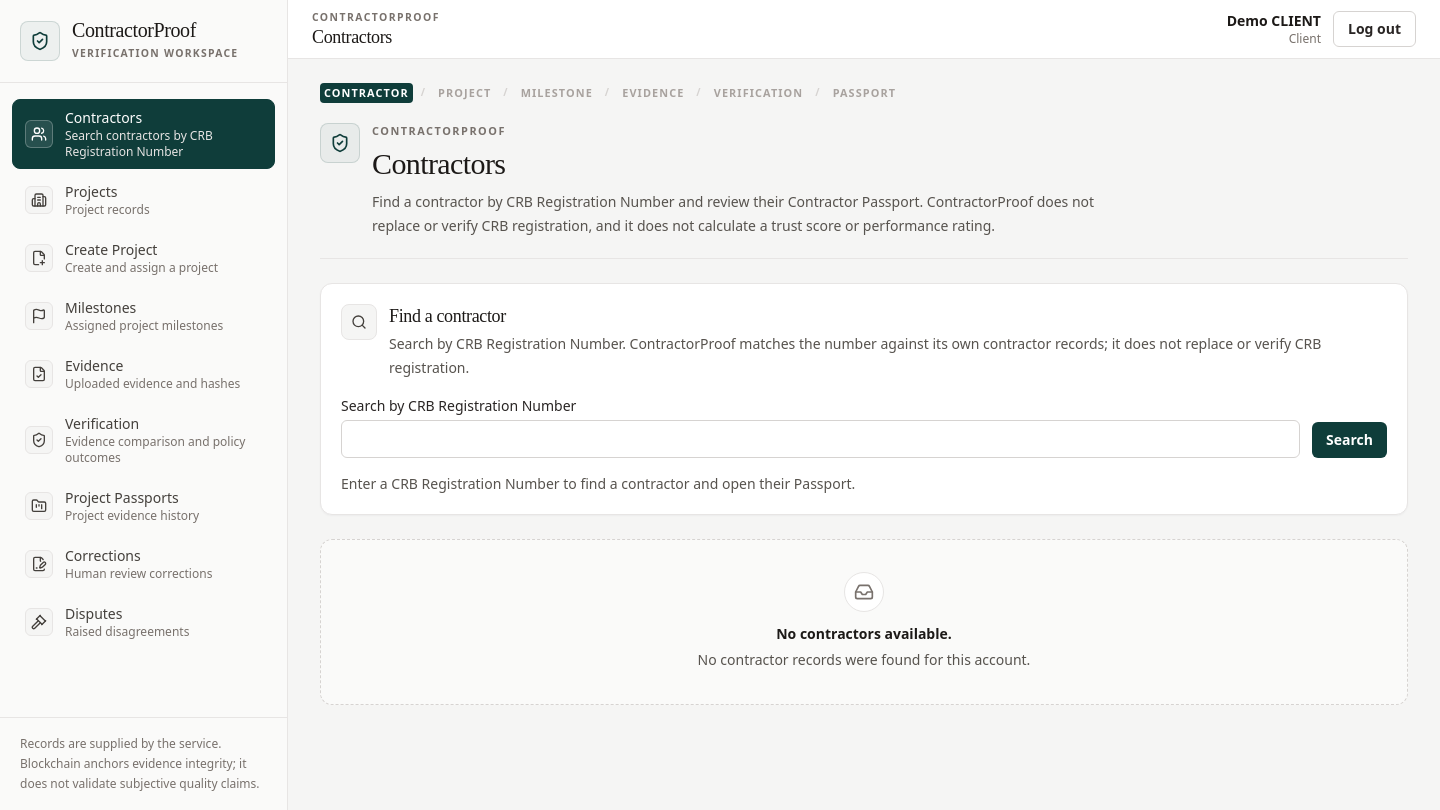
Test: CRB contractor discovery › shows a loading state while the search runs
Type "CRB-204" into the field labelled "Search by CRB Registration Number" at [821, 440], box 341,420 -> 1300,458
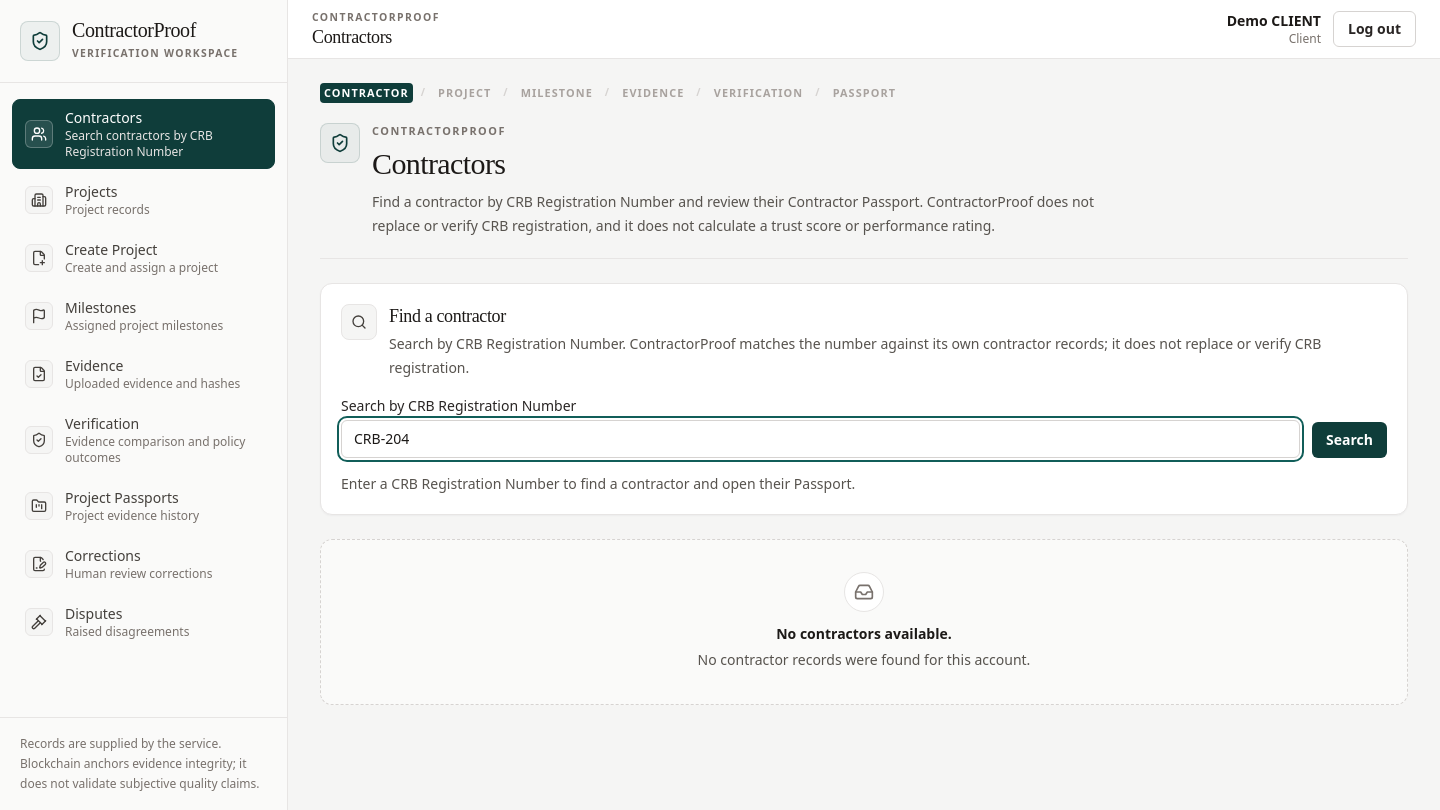
Click the button "Search" at [1350, 440], box 1312,422 -> 1387,458
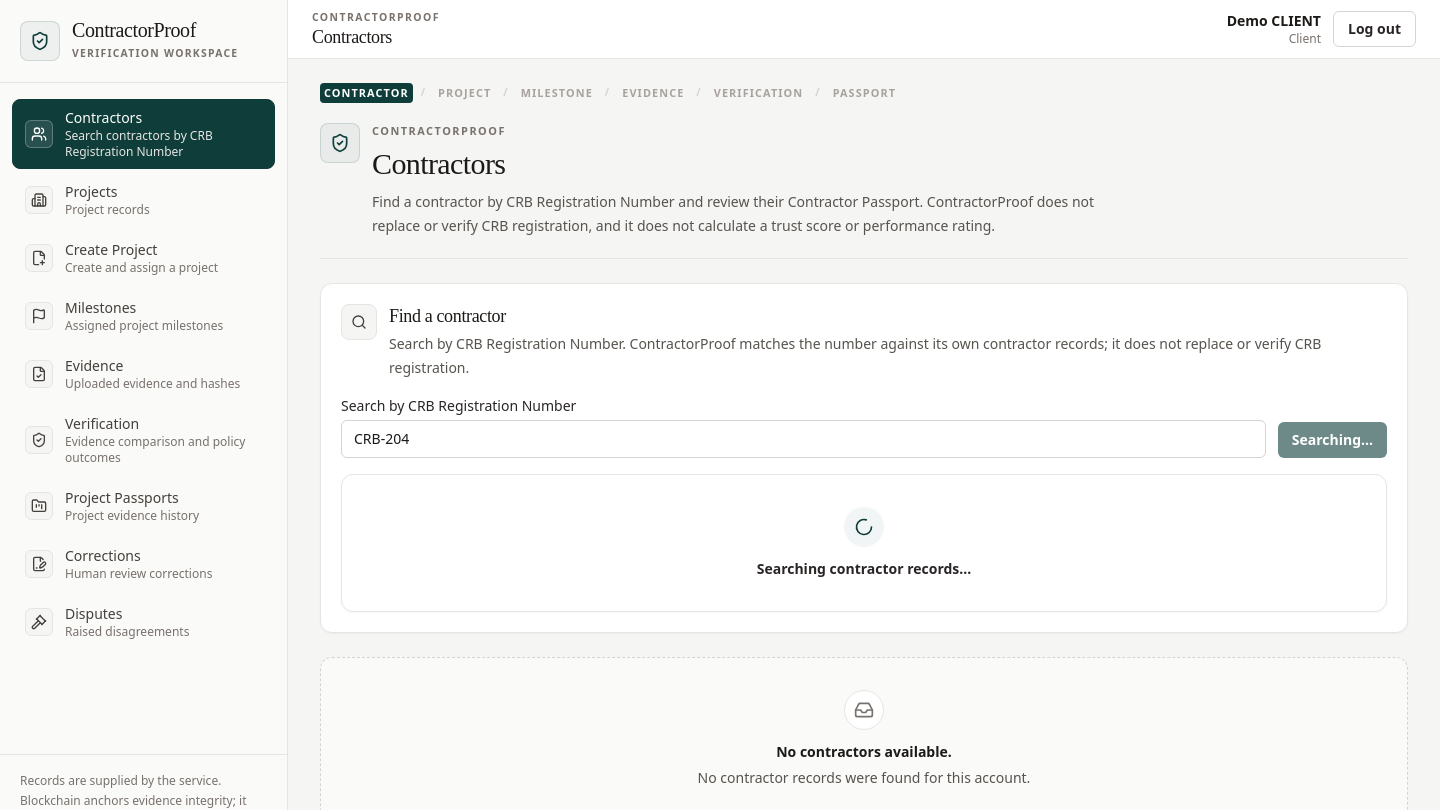
Now the text "Searching contractor records..." is shown, box 757,560 -> 971,578
